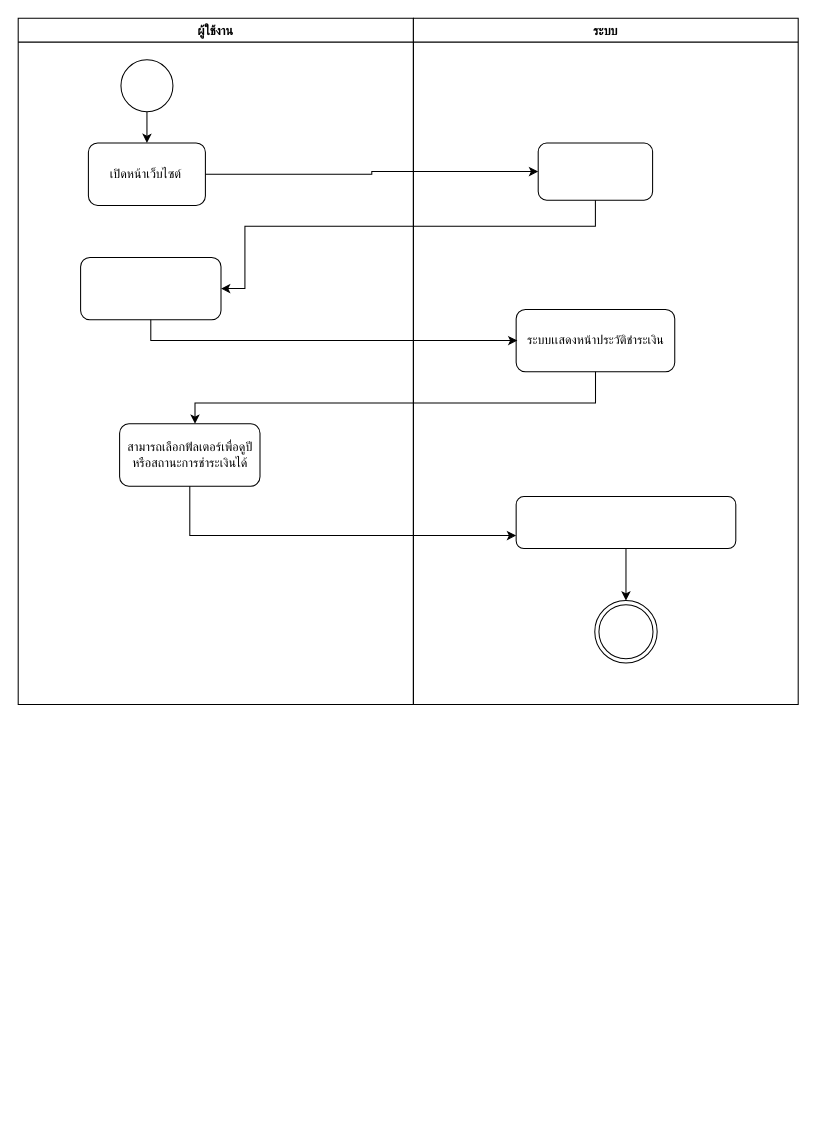
This 816x1137 diagram has some shape labels left out. Here are the shapes that lost their labels. From the top down, the centre of each, then its label:
[595,171]: เเสดงหน้าเข้าสู่ระบบ
[150,288]: นักศึกษา เลือกเมนู "ประวัติการชำระเงิน"
[625,522]: ระบบเเสดง ปี หรือ สถานะการชำระเงิน
